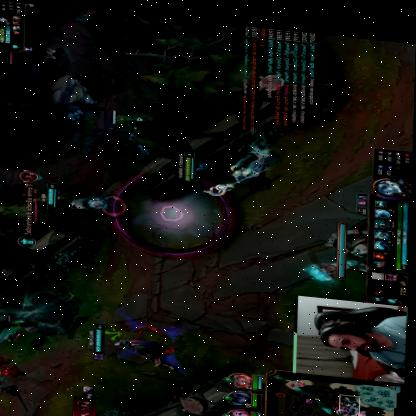streamer: (318, 299, 409, 360)
